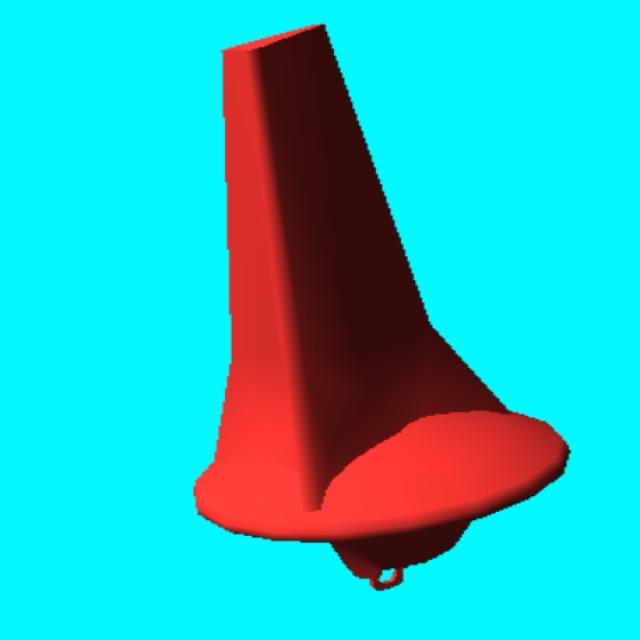RedBuoy: (196, 25, 567, 589)
